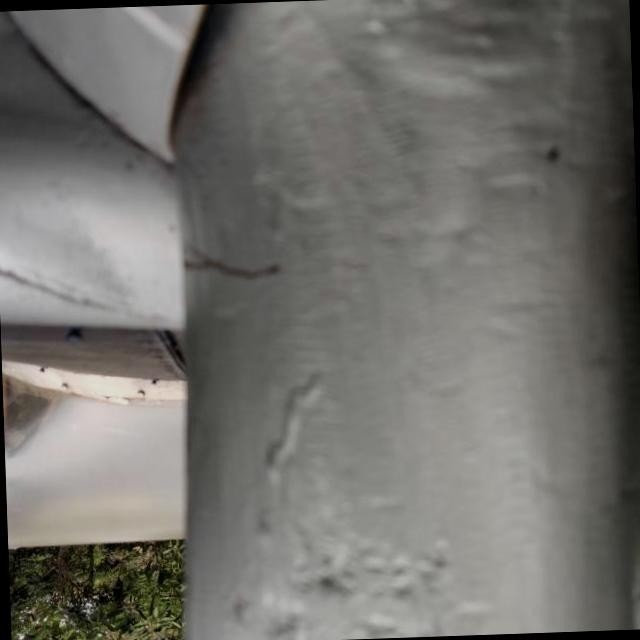scratch: (173, 212, 305, 322)
